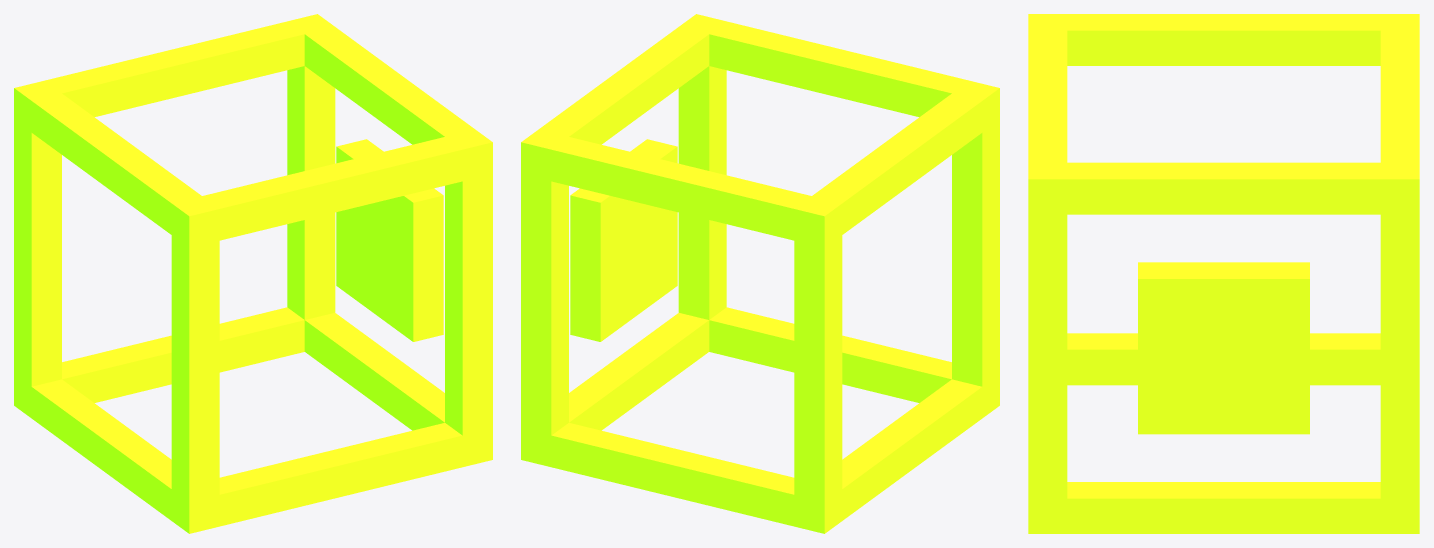
Rendered from cursor.glb.
3 renders of one model, left to right at view 1: azimuth 30°, elevation 25°; view 2: azimuth 150°, elevation 25°; view 3: azimuth 270°, elevation 25°, orthographic. The views are drawn at different scales.
Visible parts, largest first — view 1: cursor; view 2: cursor; view 3: cursor.
Part boxes in pixels (box(x1,y1,x2,y2)): cursor: box(14, 14, 492, 533); cursor: box(521, 14, 999, 533); cursor: box(1028, 14, 1419, 533).
Size of the model in its own units: 1 by 1 by 1.
